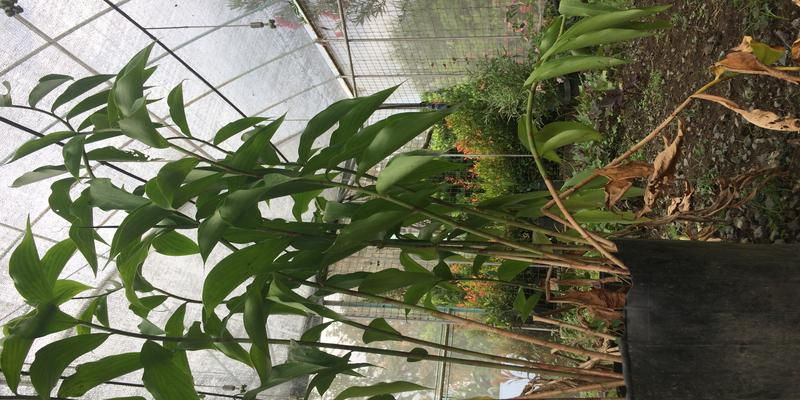Insulin: (5, 94, 621, 391)
